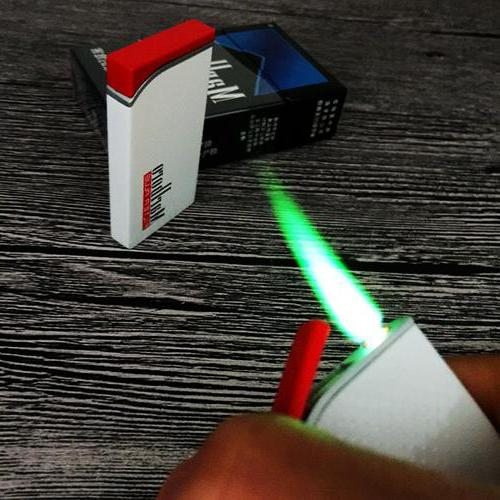fire: (261, 174, 395, 382)
